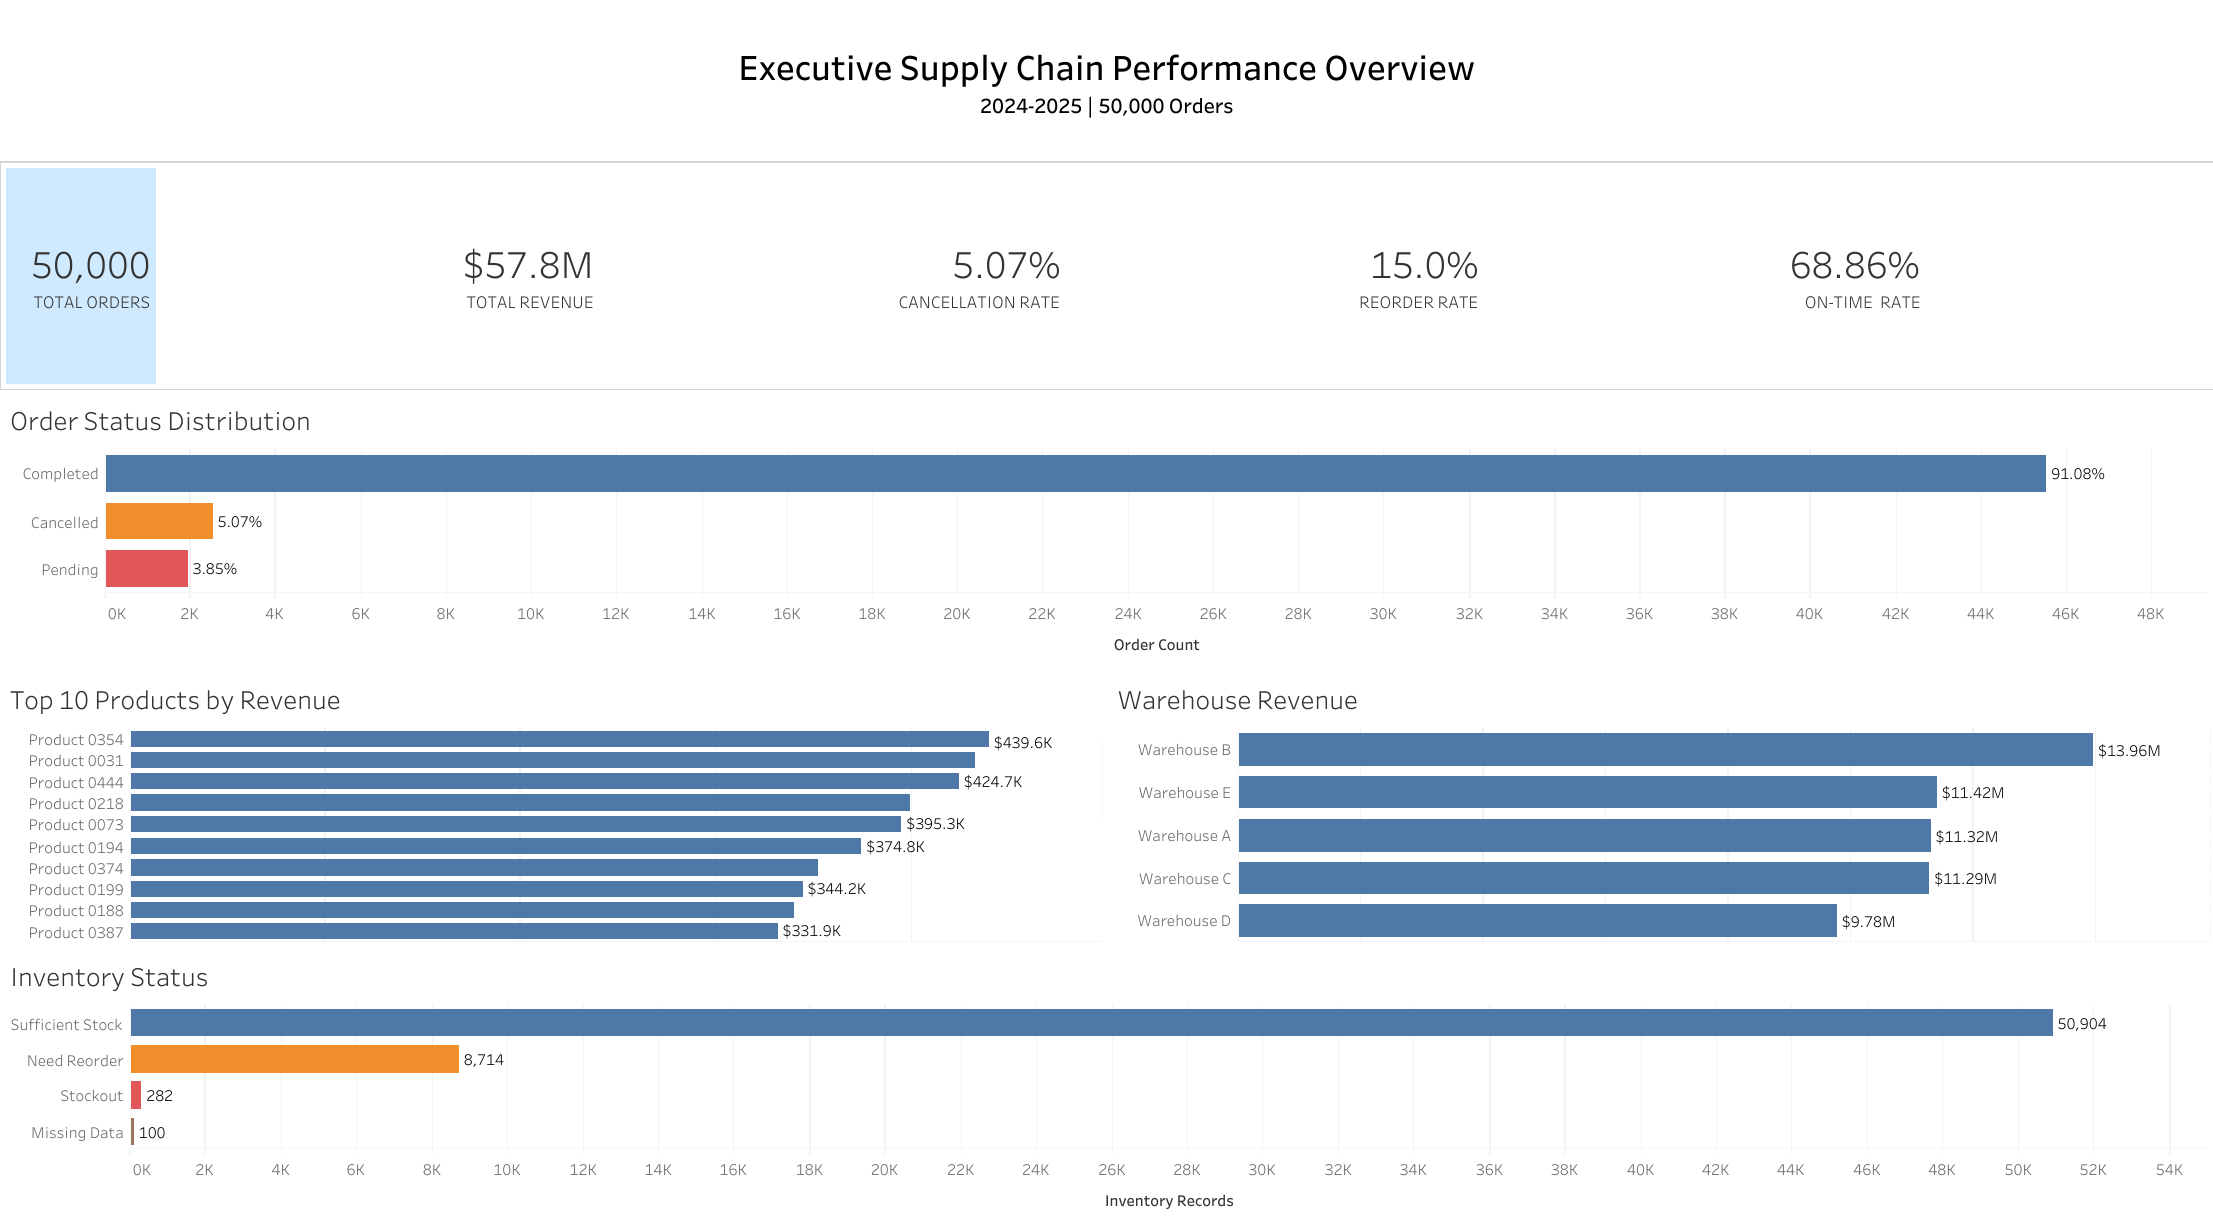

This screenshot's page, from the dashboard's own definition file:
{"tool":"tableau","page":{"name":"Executive Overview","canvas":[1000,1000],"units":"permille","ordinal":0},"visuals":[{"type":"text","box":[0,0,1000,95.1]},{"type":"worksheet","title":"KPI - Total Orders","mark":"Automatic","box":[1,95.8,199.6,133.4]},{"type":"worksheet","title":"KPI - Total Revenue","mark":"Automatic","box":[200.6,95.8,199.6,133.4]},{"type":"worksheet","title":"KPI - Cancellation Rate","mark":"Automatic","box":[400.2,95.8,199.6,133.4]},{"type":"worksheet","title":"KPI - Reorder Rate","mark":"Automatic","box":[599.8,95.8,199.6,133.4]},{"type":"worksheet","title":"KPI On-Time Delivery Rate","mark":"Automatic","box":[799.4,95.8,199.6,133.4]},{"type":"worksheet","title":"Order Status Distribution","mark":"Bar","rows":["status"],"cols":["order_count"],"box":[0,229.9,1000,208.6]},{"type":"worksheet","title":"Top 10 Products by Revenue","mark":"Bar","rows":["product_name"],"cols":["total_revenue"],"box":[0,438.5,509.5,280.8]},{"type":"worksheet","title":"Warehouse Revenue ","mark":"Bar","rows":["warehouse_name"],"cols":["total_revenue"],"box":[509.5,438.5,490.5,280.8]},{"type":"worksheet","title":"Inventory Status","mark":"Bar","rows":["inventory_status"],"cols":["inventory_id"],"box":[0,719.2,1000,280.8]}]}

Visuals, with their boxes on the dashboard's canvas, which has no fixed pixel size, in thousandths of its width and height (x1, y1, x2, y2). These are canvas units, not pixel positions in the 2213x1224 screenshot, which may show the page scaled, cropped or inside an application window:
text: detection(0, 0, 1000, 95)
"KPI - Total Orders" worksheet: detection(1, 96, 201, 229)
"KPI - Total Revenue" worksheet: detection(201, 96, 400, 229)
"KPI - Cancellation Rate" worksheet: detection(400, 96, 600, 229)
"KPI - Reorder Rate" worksheet: detection(600, 96, 799, 229)
"KPI On-Time Delivery Rate" worksheet: detection(799, 96, 999, 229)
"Order Status Distribution" worksheet (Bar marks): detection(0, 230, 1000, 438)
"Top 10 Products by Revenue" worksheet (Bar marks): detection(0, 438, 510, 719)
"Warehouse Revenue " worksheet (Bar marks): detection(510, 438, 1000, 719)
"Inventory Status" worksheet (Bar marks): detection(0, 719, 1000, 1000)
